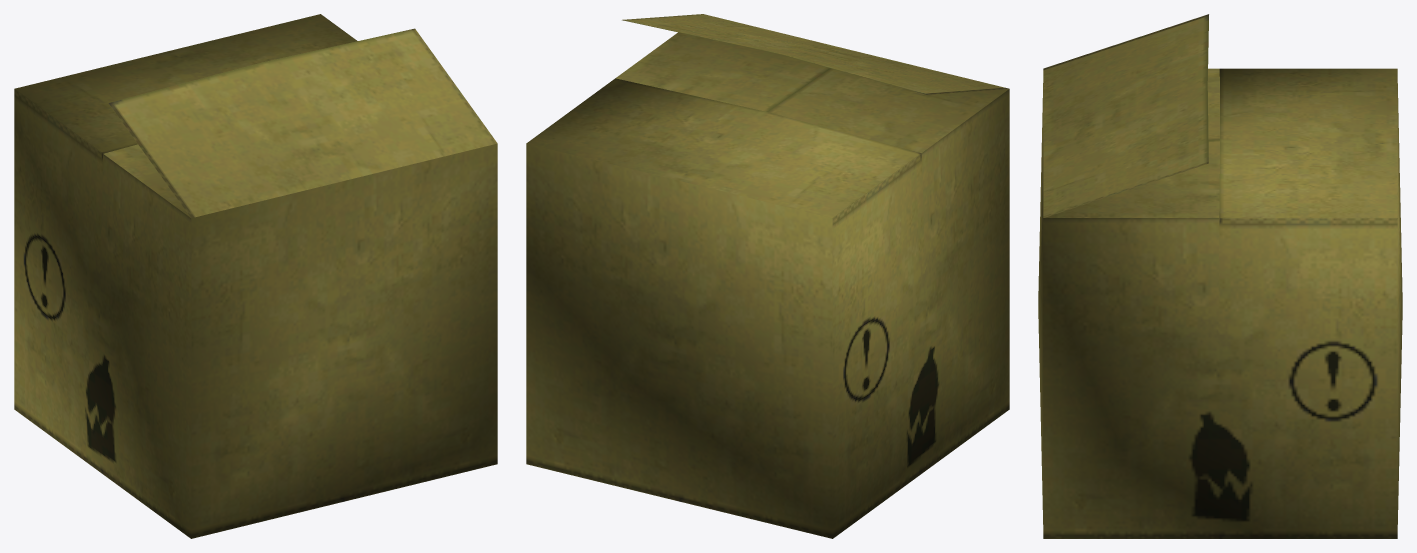
The model's file is Crate_Card03.glb.
3 views of the same model, side by side, from view 1: azimuth 30°, elevation 25°; view 2: azimuth 150°, elevation 25°; view 3: azimuth 270°, elevation 25° (orthographic).
Visible parts, largest first — view 1: CRATE_CARD03; view 2: CRATE_CARD03; view 3: CRATE_CARD03.
Part boxes in pixels (bbox=[...]): CRATE_CARD03: bbox=[14, 14, 497, 538]; CRATE_CARD03: bbox=[526, 14, 1009, 538]; CRATE_CARD03: bbox=[1038, 14, 1402, 538].
Bounding box in the file's own units: 1.03 × 1.18 × 1.03.
Materials: 2 (2 with a texture image).
